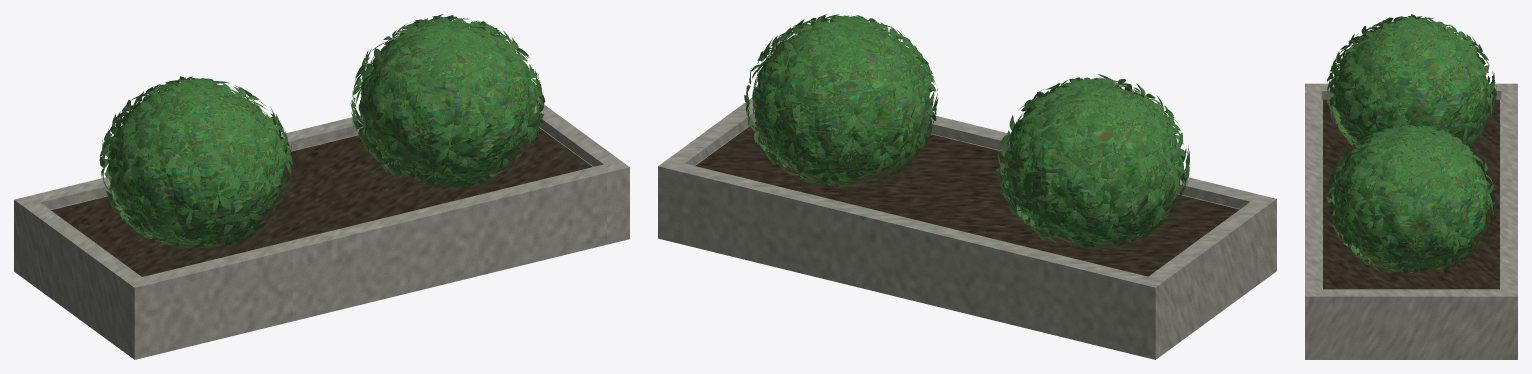
The picture shows the model from 3 angles, left to right: view 1: azimuth 30°, elevation 25°; view 2: azimuth 150°, elevation 25°; view 3: azimuth 270°, elevation 25°; orthographic projection. The views are drawn at different scales.
Visible parts, largest first — view 1: VIS_Planter_0, VIS_Physical_Leaves, VIS_Planter_5, VIS_Planter_2, VIS_Round_Shrub_2, VIS_Round_Shrub_1, VIS_Leaf_Cards, VIS_Planter_3, VIS_Planter_1, VIS_Planter_4; view 2: VIS_Planter_0, VIS_Physical_Leaves, VIS_Planter_5, VIS_Round_Shrub_2, VIS_Planter_1, VIS_Leaf_Cards, VIS_Round_Shrub_1, VIS_Planter_3, VIS_Planter_2, VIS_Planter_4; view 3: VIS_Physical_Leaves, VIS_Planter_0, VIS_Planter_5, VIS_Round_Shrub_2, VIS_Leaf_Cards, VIS_Round_Shrub_1, VIS_Planter_2, VIS_Planter_1, VIS_Planter_4, VIS_Planter_3.
Boxes of the visible parts, left/top/right/bottom form: VIS_Planter_0: left=14, top=127, right=629, bottom=359; VIS_Physical_Leaves: left=99, top=14, right=545, bottom=248; VIS_Planter_5: left=51, top=124, right=592, bottom=276; VIS_Planter_2: left=125, top=160, right=629, bottom=304; VIS_Round_Shrub_2: left=358, top=27, right=537, bottom=180; VIS_Round_Shrub_1: left=107, top=89, right=285, bottom=241; VIS_Leaf_Cards: left=107, top=21, right=532, bottom=243; VIS_Planter_3: left=21, top=201, right=141, bottom=298; VIS_Planter_1: left=14, top=115, right=364, bottom=220; VIS_Planter_4: left=534, top=102, right=619, bottom=166; VIS_Planter_0: left=658, top=121, right=1276, bottom=359; VIS_Physical_Leaves: left=744, top=14, right=1189, bottom=249; VIS_Planter_5: left=695, top=121, right=1239, bottom=276; VIS_Round_Shrub_2: left=752, top=28, right=931, bottom=179; VIS_Planter_1: left=658, top=159, right=1164, bottom=303; VIS_Leaf_Cards: left=752, top=20, right=1182, bottom=245; VIS_Round_Shrub_1: left=1004, top=86, right=1182, bottom=240; VIS_Planter_3: left=1147, top=200, right=1269, bottom=291; VIS_Planter_2: left=927, top=115, right=1276, bottom=221; VIS_Planter_4: left=668, top=97, right=755, bottom=165; VIS_Physical_Leaves: left=1326, top=14, right=1496, bottom=274; VIS_Planter_0: left=1305, top=99, right=1517, bottom=359; VIS_Planter_5: left=1323, top=99, right=1499, bottom=289; VIS_Round_Shrub_2: left=1335, top=134, right=1491, bottom=268; VIS_Leaf_Cards: left=1333, top=20, right=1489, bottom=271; VIS_Round_Shrub_1: left=1335, top=26, right=1491, bottom=144; VIS_Planter_2: left=1305, top=83, right=1321, bottom=311; VIS_Planter_1: left=1501, top=83, right=1517, bottom=311; VIS_Planter_4: left=1318, top=289, right=1504, bottom=311; VIS_Planter_3: left=1318, top=83, right=1504, bottom=99.
Bounding box in the file's own units: 2.25 × 0.8668 × 0.95.
5 materials, 5 textured.
